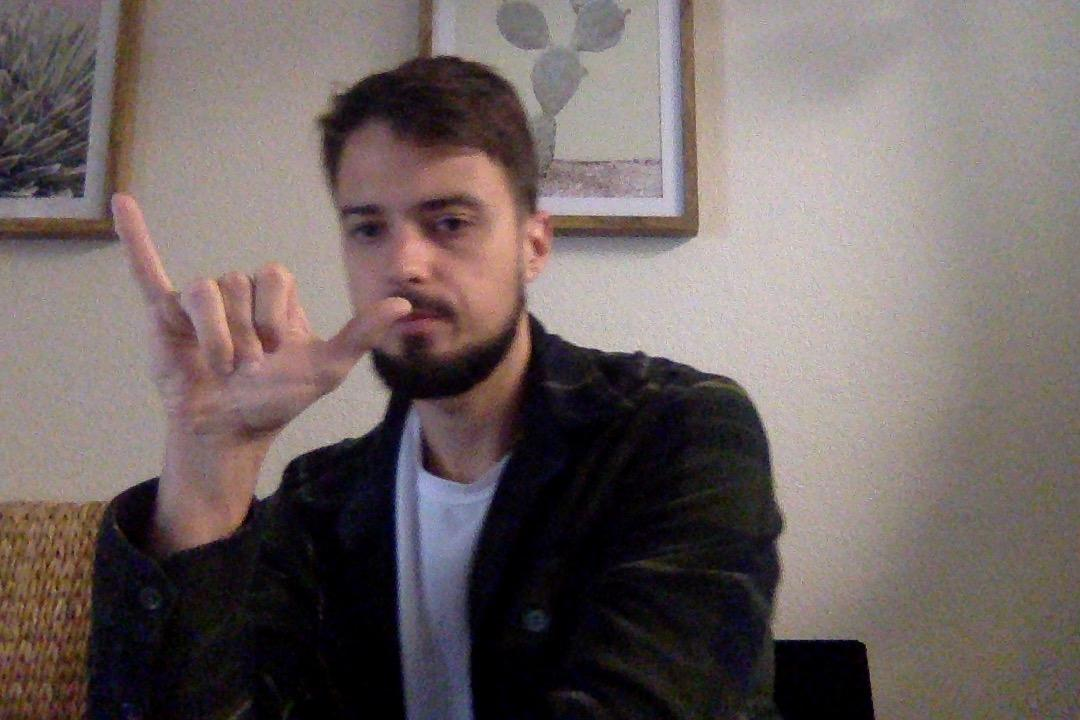Call-Me: (100, 192, 415, 441)
